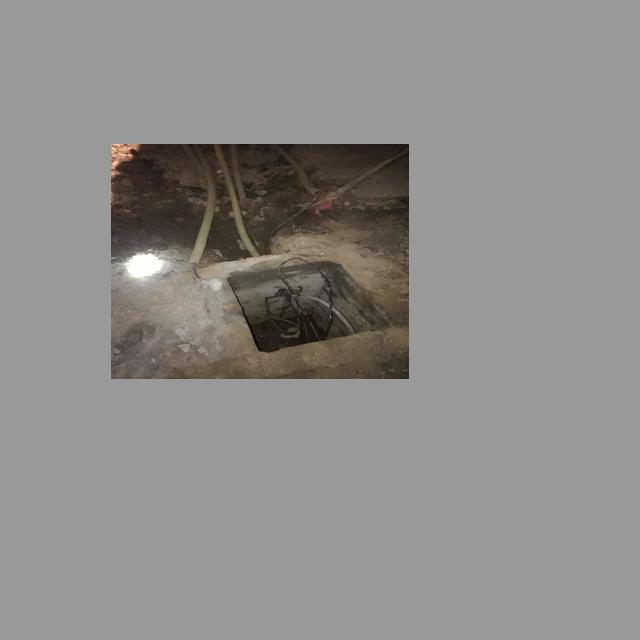lose: (209, 249, 395, 355)
